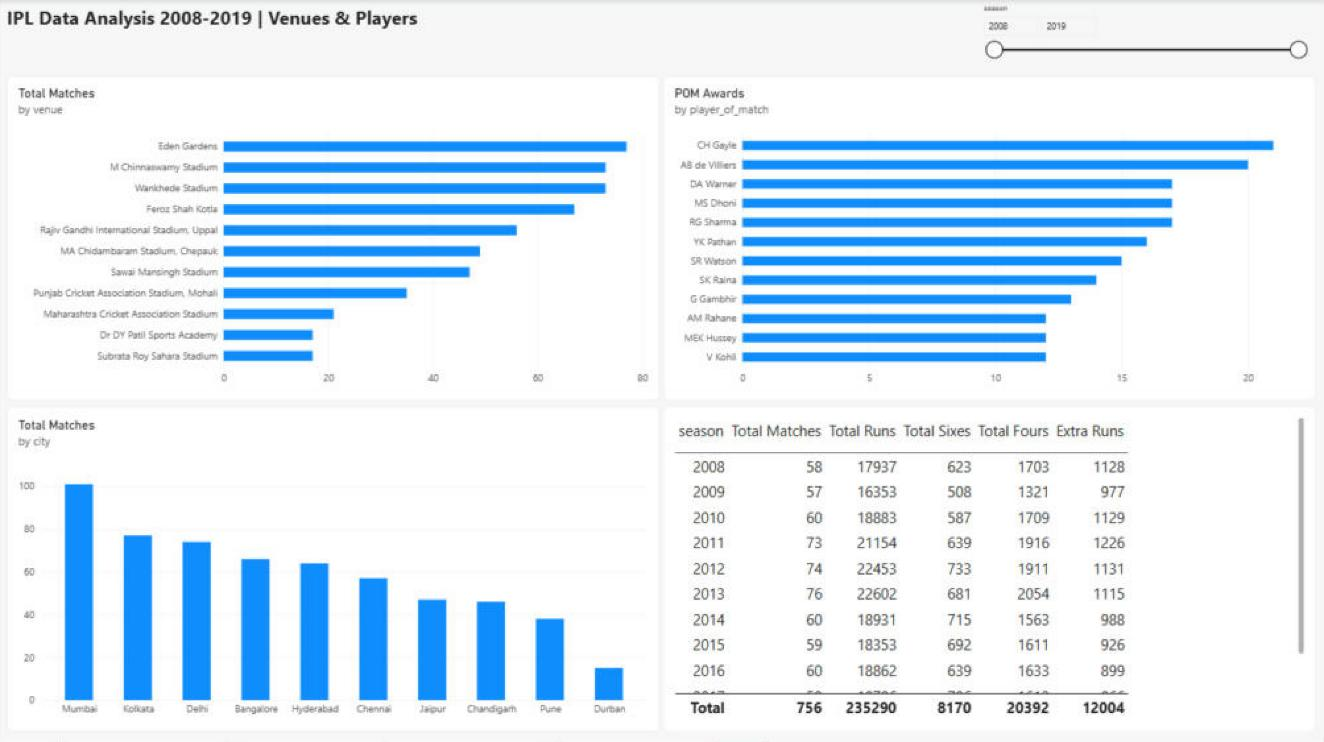

This screenshot's page, from the dashboard's own definition file:
{"tool":"powerbi","page":{"name":"Venues & Players","canvas":[1920,1080],"ordinal":4},"visuals":[{"type":"textbox","box":[15,8,820,60],"z":3000},{"type":"slicer","fields":{"Values":["matches.season"]},"box":[1420,5,480,95],"z":4000},{"type":"clusteredBarChart","fields":{"Category":["matches.venue"],"Y":["matches.Total Matches"]},"box":[15,110,945,470],"z":4001},{"type":"clusteredBarChart","fields":{"Category":["matches.player_of_match"],"Y":["matches.POM Awards"]},"box":[965,110,945,470],"z":4002},{"type":"clusteredColumnChart","fields":{"Category":["matches.city"],"Y":["matches.Total Matches"]},"box":[15,590,945,470],"z":4003},{"type":"tableEx","fields":{"Values":["matches.season","matches.Total Matches","matches.Total Runs","matches.Total Sixes","matches.Total Fours","matches.Extra Runs"]},"box":[965,590,945,470],"z":4004}]}

Visuals, with their boxes in screenshot pixels (x1, y1, x2, y2), scaled from the page's 1920x1080 canvas onto the 1324x742 screenshot:
textbox: <bbox>10, 5, 576, 47</bbox>
slicer - matches.season: <bbox>979, 3, 1310, 69</bbox>
clusteredBarChart - matches.venue x matches.Total Matches: <bbox>10, 76, 662, 398</bbox>
clusteredBarChart - matches.player_of_match x matches.POM Awards: <bbox>665, 76, 1317, 398</bbox>
clusteredColumnChart - matches.city x matches.Total Matches: <bbox>10, 405, 662, 728</bbox>
tableEx - matches.season x matches.Total Matches: <bbox>665, 405, 1317, 728</bbox>
